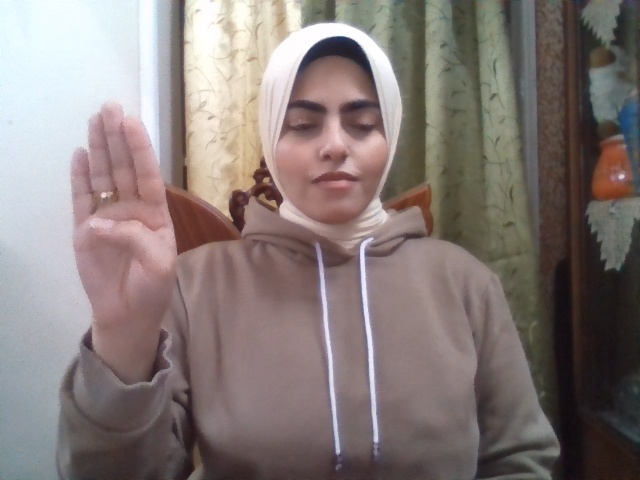B: (71, 101, 176, 342)
